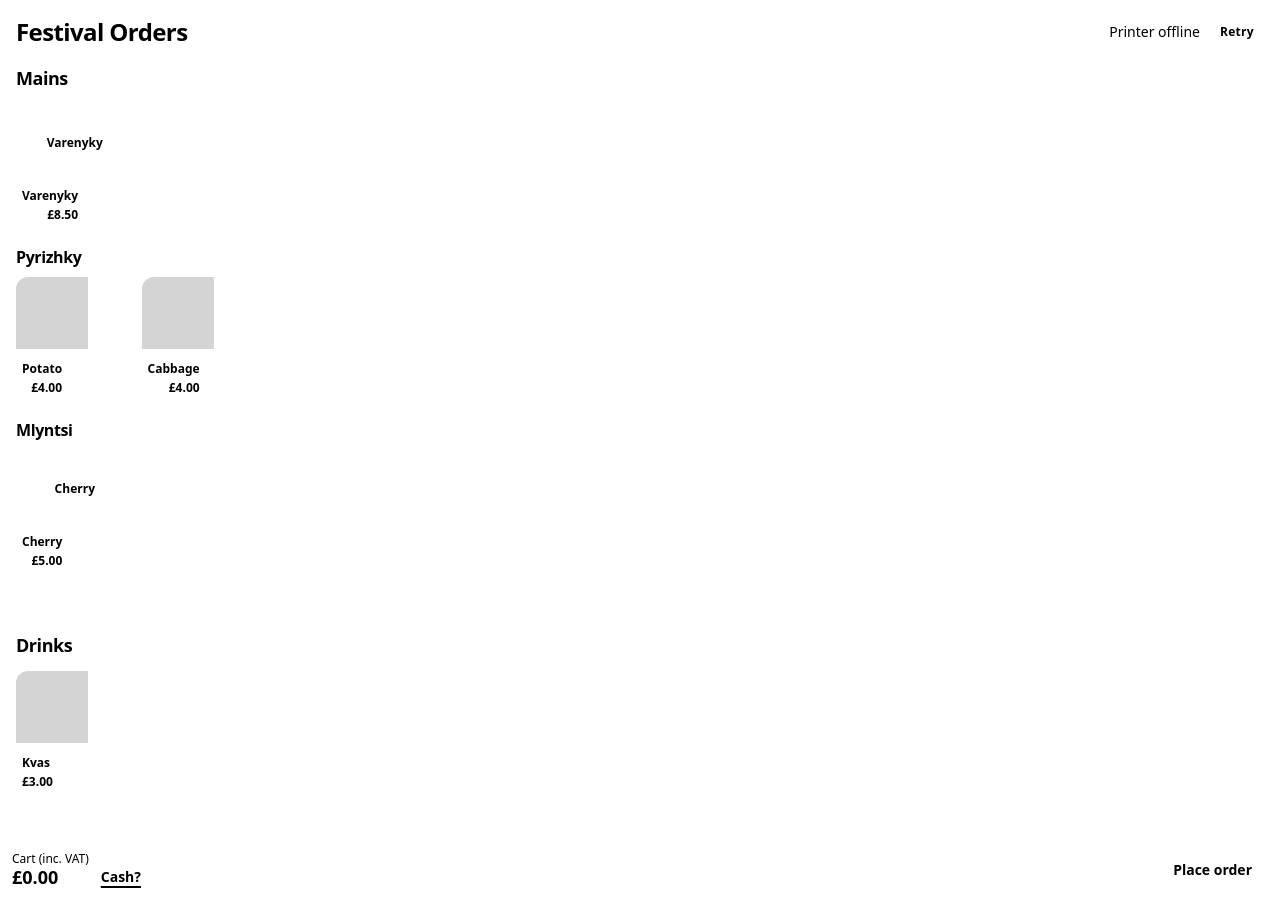
Test case: FestivalTillPage › still allows place when printer offline
Expected: the message "Printer offline" is shown, x1=1109 y1=22 x2=1200 y2=41
Expected: the button with aria-label "Retry printing" is shown, x1=1210 y1=20 x2=1264 y2=44
Click the button with aria-label "Order Kvas": (75, 733) x1=16 y1=671 x2=134 y2=796
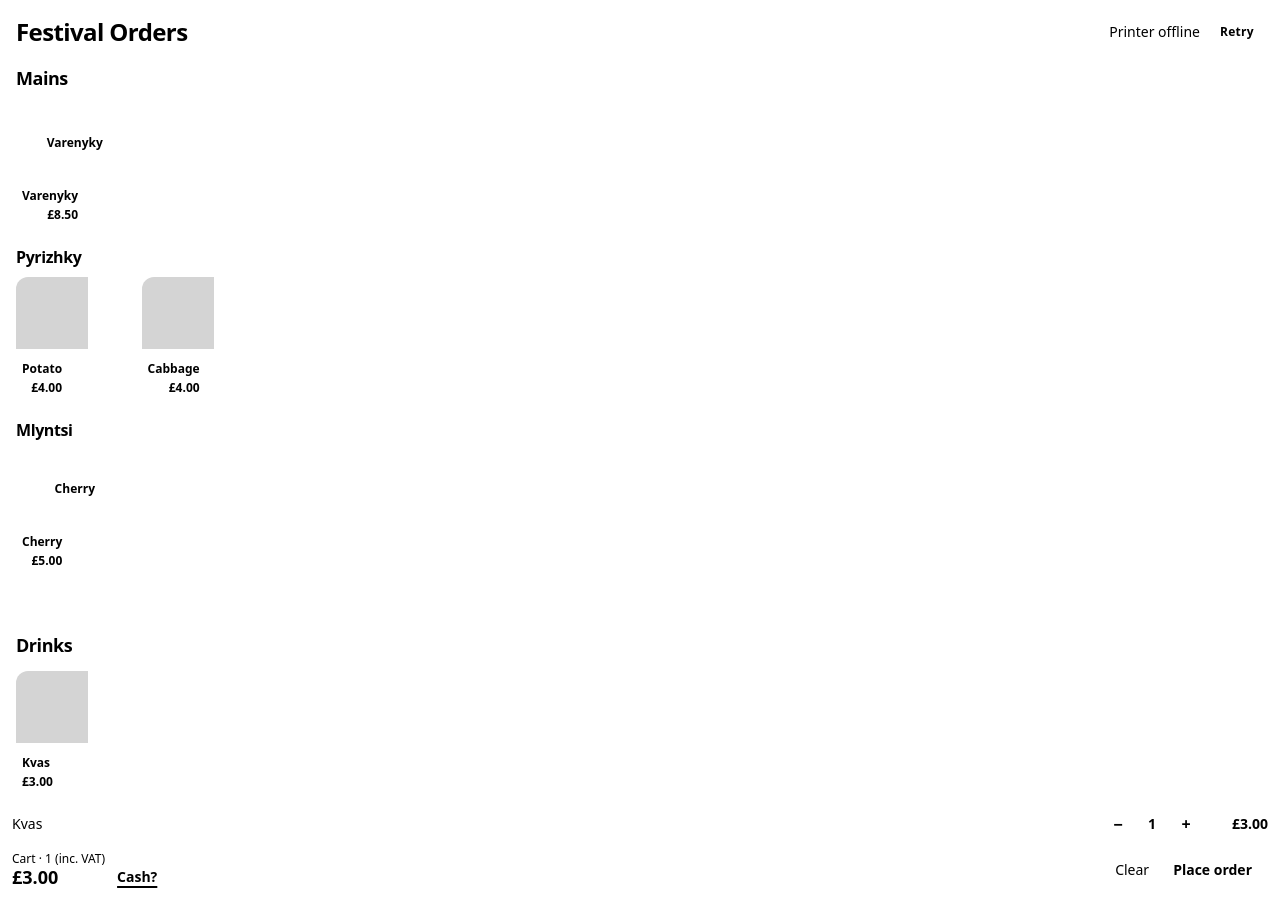
Expected: the button "Place order" is enabled, x1=1157 y1=848 x2=1268 y2=892
Expected: the list named "Festival cart" is shown, x1=12 y1=808 x2=1268 y2=840
